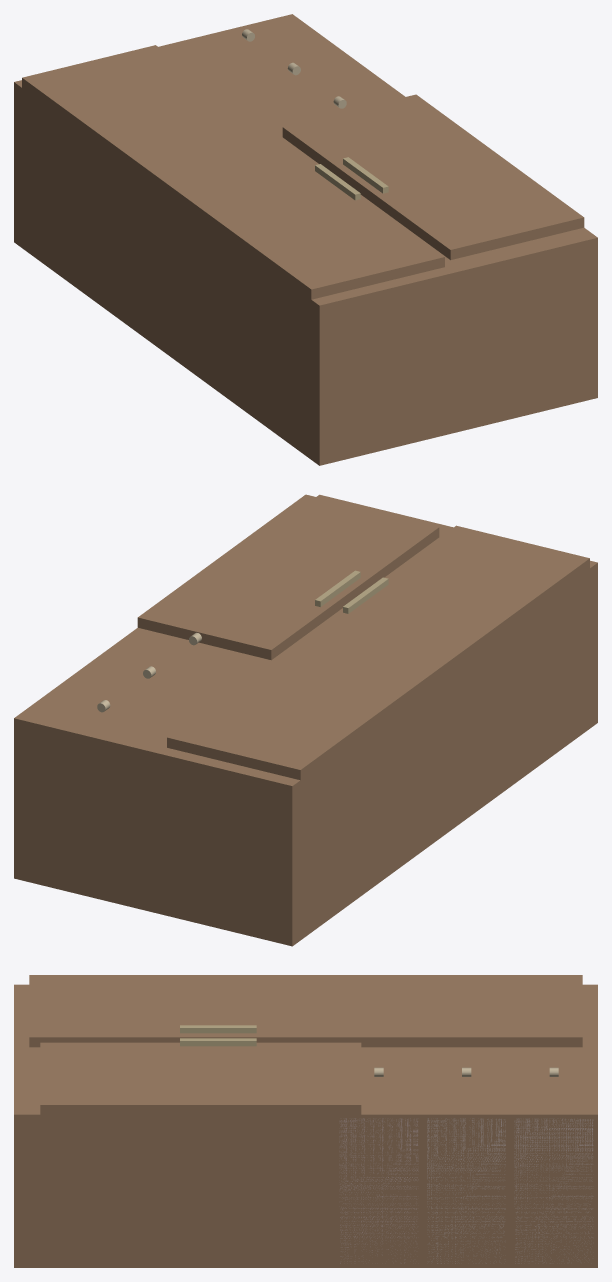
Rendered from contemporary_cane_almirah_detailed.glb.
3 renders of one model, top to bottom at view 1: azimuth 30°, elevation 25°; view 2: azimuth 150°, elevation 25°; view 3: azimuth 270°, elevation 25°, orthographic. The views are drawn at different scales.
Parts seen in each view (by area): view 1: world; view 2: world; view 3: world.
Boxes of the visible parts, x1,y1,x2,y2 form: world: [14, 14, 597, 465]; world: [14, 494, 597, 946]; world: [14, 975, 597, 1267].
Bounding box in the file's own units: 1 × 0.61 × 1.9.
